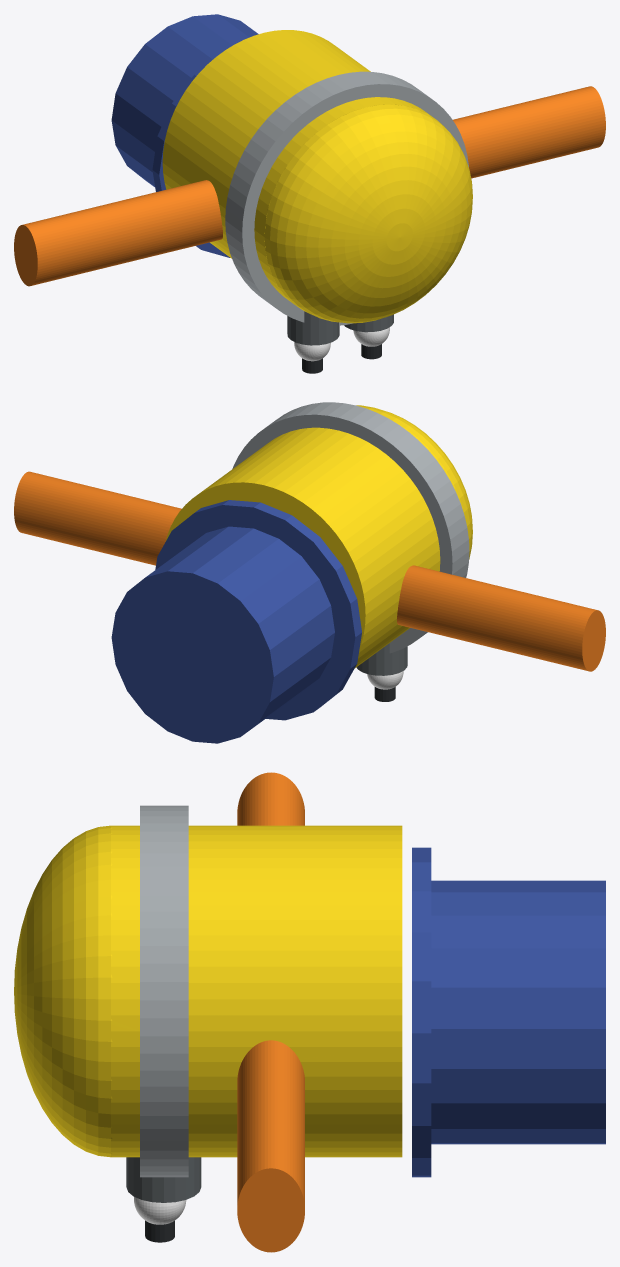
Rendered from tinker.obj.
3 renders of one model, top to bottom at view 1: azimuth 30°, elevation 25°; view 2: azimuth 150°, elevation 25°; view 3: azimuth 270°, elevation 25°, orthographic. The views are drawn at different scales.
Parts seen in each view (by area): view 1: group_0_16768282, group_0_16089887, group_0_10988977, group_0_3888547, group_0_6383466, group_0_16448250, group_0_2829873; view 2: group_0_3888547, group_0_16768282, group_0_16089887, group_0_10988977, group_0_6383466; view 3: group_0_16768282, group_0_3888547, group_0_10988977, group_0_16089887, group_0_6383466, group_0_16448250.
Part boxes in pixels (<box>): group_0_16768282: <box>162,30,472,323</box>; group_0_16089887: <box>14,86,605,286</box>; group_0_10988977: <box>225,71,468,325</box>; group_0_3888547: <box>111,14,258,257</box>; group_0_6383466: <box>287,311,393,345</box>; group_0_16448250: <box>294,327,389,361</box>; group_0_2829873: <box>302,344,381,373</box>; group_0_3888547: <box>111,500,361,743</box>; group_0_16768282: <box>165,405,472,668</box>; group_0_16089887: <box>14,471,605,671</box>; group_0_10988977: <box>232,402,469,653</box>; group_0_6383466: <box>356,643,407,675</box>; group_0_16768282: <box>14,825,402,1157</box>; group_0_3888547: <box>412,847,605,1177</box>; group_0_10988977: <box>140,805,188,1177</box>; group_0_16089887: <box>237,772,304,1252</box>; group_0_6383466: <box>126,1157,201,1202</box>; group_0_16448250: <box>134,1197,186,1224</box>.
Bounding box in the file's own units: 125 × 58.5 × 79.
